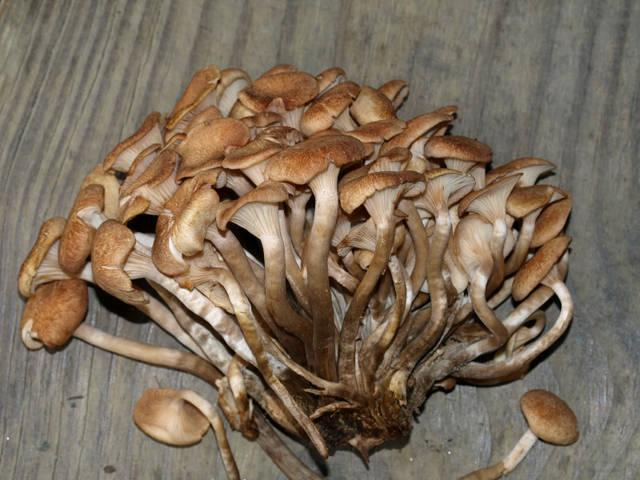edible_mushroom: (17, 62, 576, 478)
